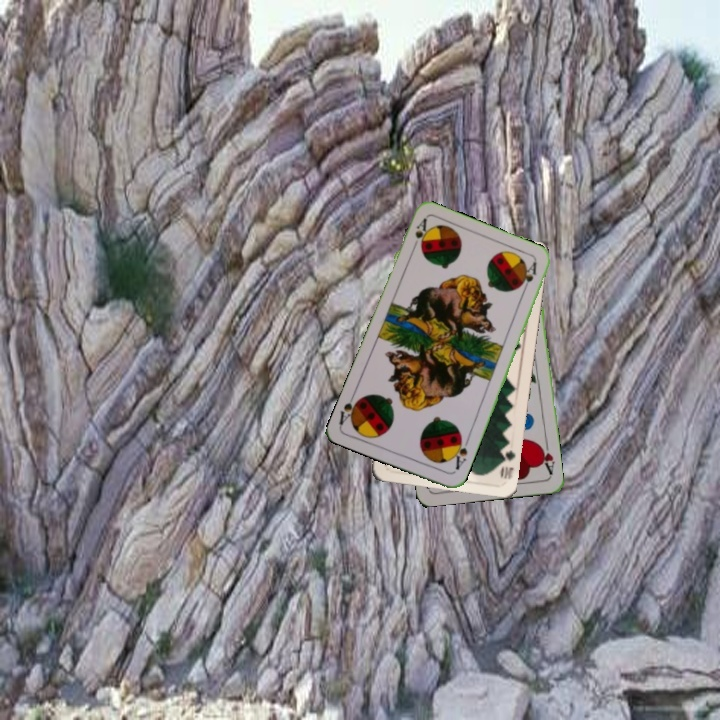G10: (496, 441, 517, 482)
HA: (536, 437, 557, 477)
SA: (447, 433, 472, 473), (408, 214, 432, 254)
